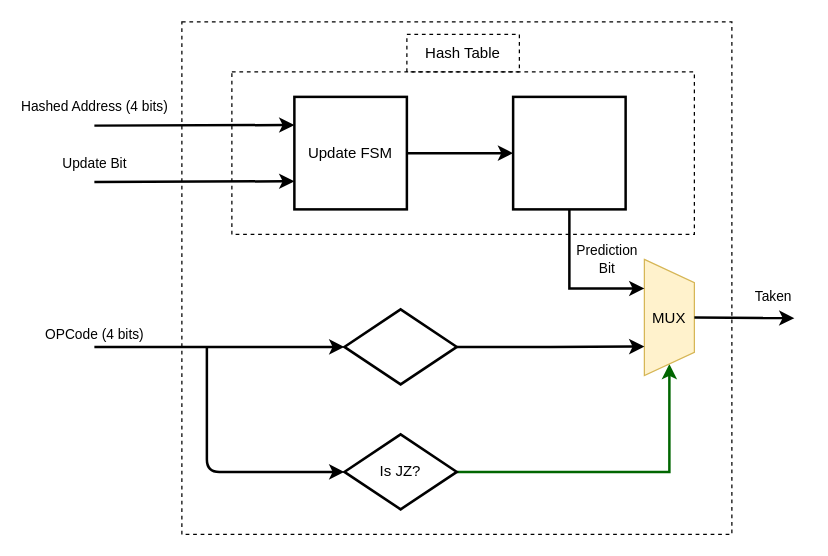
This 828x556 diagram has some shape labels left out. The centre of each missing label's shape, as x and y in pixels:
Get Prediction Bit: point (568, 152)
Is Branch?: point (400, 346)
